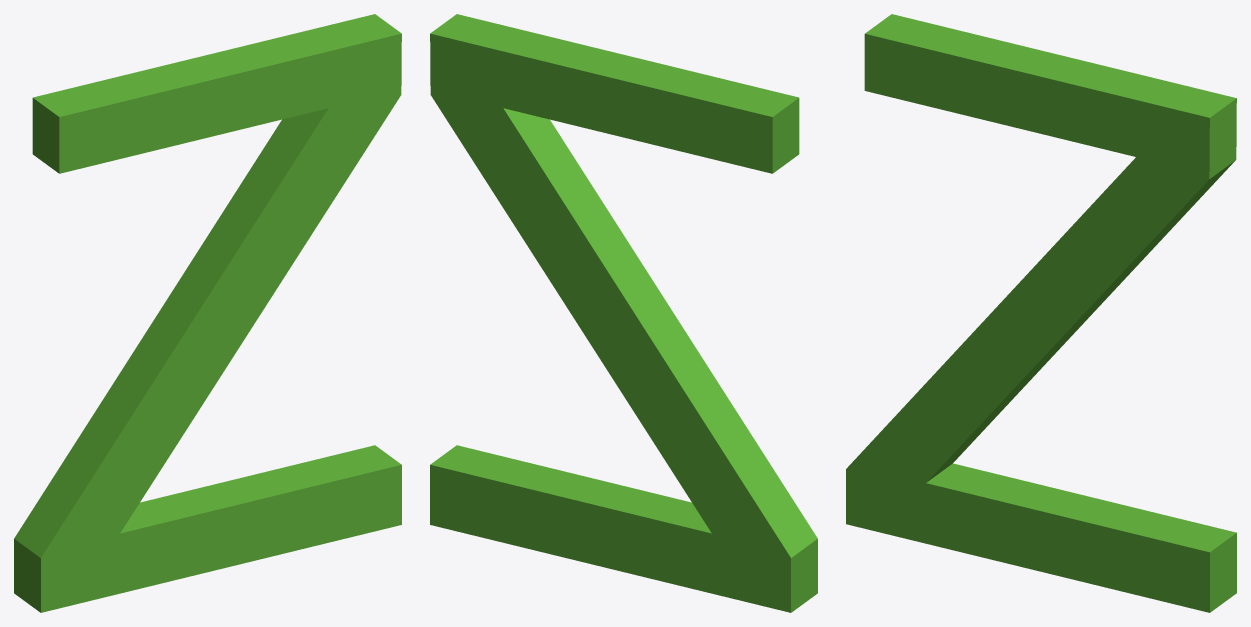
Rendered from letras.obj.
3 views of the same model, side by side, from view 1: azimuth 30°, elevation 25°; view 2: azimuth 150°, elevation 25°; view 3: azimuth 330°, elevation 25° (orthographic).
Visible parts, largest first — view 1: Z; view 2: Z; view 3: Z.
Part boxes in pixels (x1=…): Z: x1=14, y1=14, x2=401, y2=612; Z: x1=430, y1=14, x2=817, y2=612; Z: x1=846, y1=14, x2=1236, y2=612.
Bounding box in the file's own units: 0.779 × 1.01 × 0.1.
